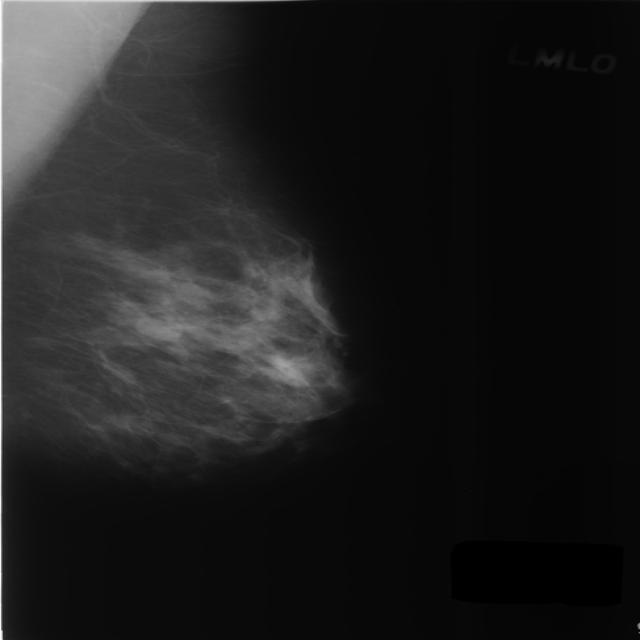tumour: (132, 314, 178, 341)
